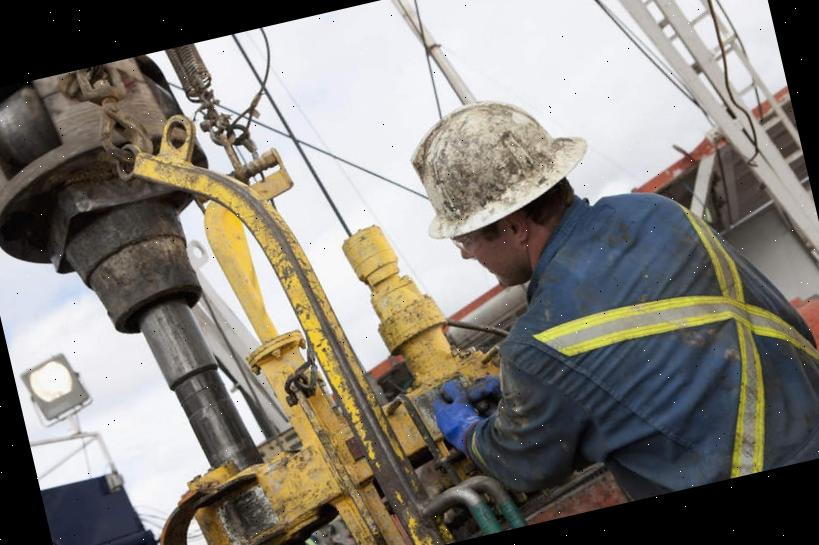helmet: (400, 76, 602, 246)
wear: (509, 211, 813, 516)
